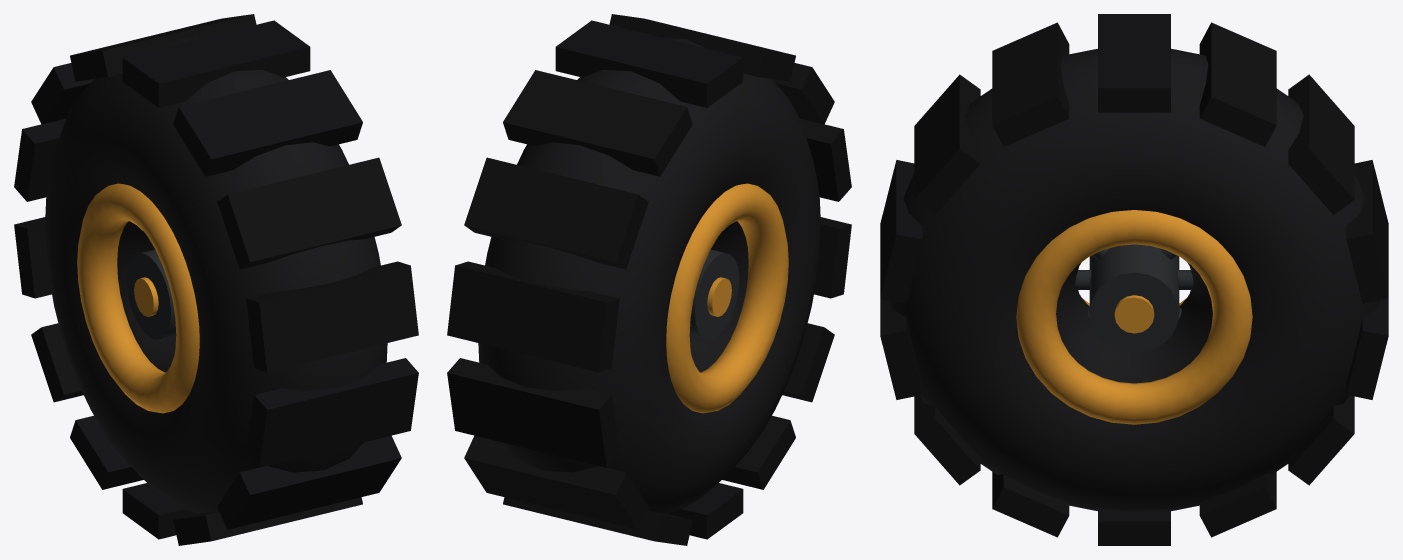
File: A029-NL01_NIULAI-rr-01-of-01.glb
3 views of the same model, side by side, from view 1: azimuth 30°, elevation 25°; view 2: azimuth 150°, elevation 25°; view 3: azimuth 270°, elevation 25° (orthographic).
Visible parts, largest first — view 1: NL01_NIULAI_Wheel_RR_Part_01; view 2: NL01_NIULAI_Wheel_RR_Part_01; view 3: NL01_NIULAI_Wheel_RR_Part_01.
Boxes of the visible parts, box(x1,y1,x2,y2) form: NL01_NIULAI_Wheel_RR_Part_01: box(14, 14, 418, 545); NL01_NIULAI_Wheel_RR_Part_01: box(447, 14, 851, 545); NL01_NIULAI_Wheel_RR_Part_01: box(880, 14, 1388, 545).
Size of the model in its own units: 0.3947 by 0.9931 by 1.
